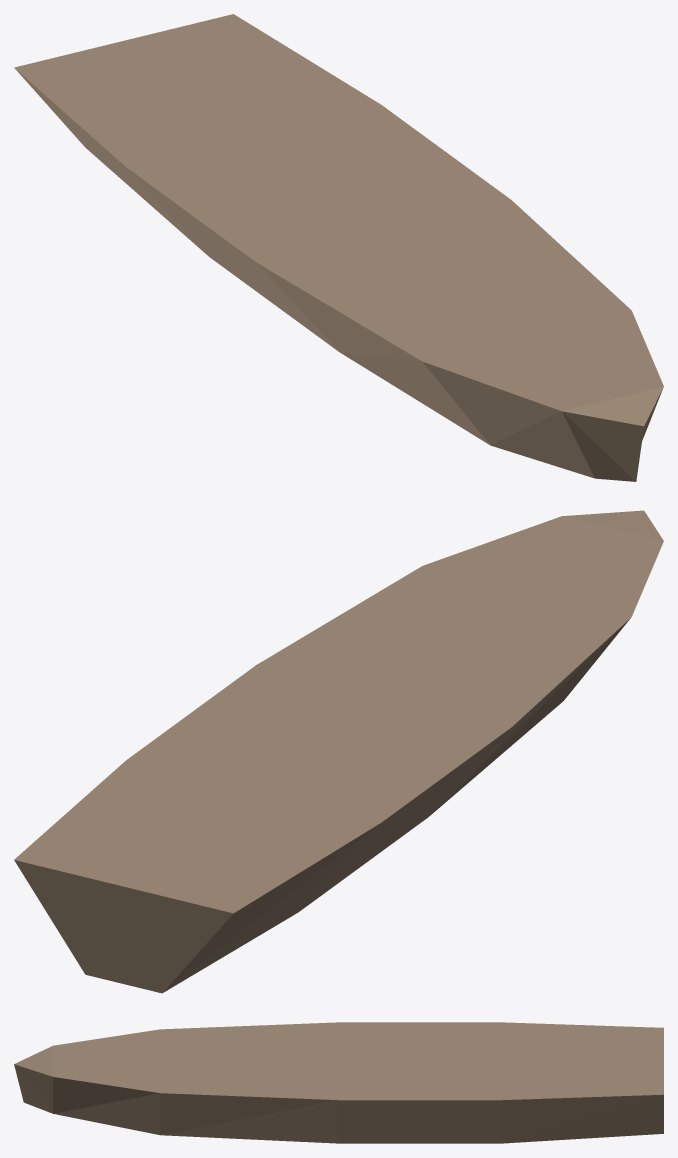
Rendered from modele.glb.
The picture shows the model from 3 angles, top to bottom: view 1: azimuth 30°, elevation 25°; view 2: azimuth 150°, elevation 25°; view 3: azimuth 270°, elevation 25°; orthographic projection. The views are drawn at different scales.
Parts seen in each view (by area): view 1: hull; view 2: hull; view 3: hull.
Part boxes in pixels (x1,y1,x2,y2): hull: [14, 14, 663, 481]; hull: [14, 510, 663, 993]; hull: [14, 1022, 663, 1143].
Bounding box in the file's own units: 6.8 × 2.8 × 24.
